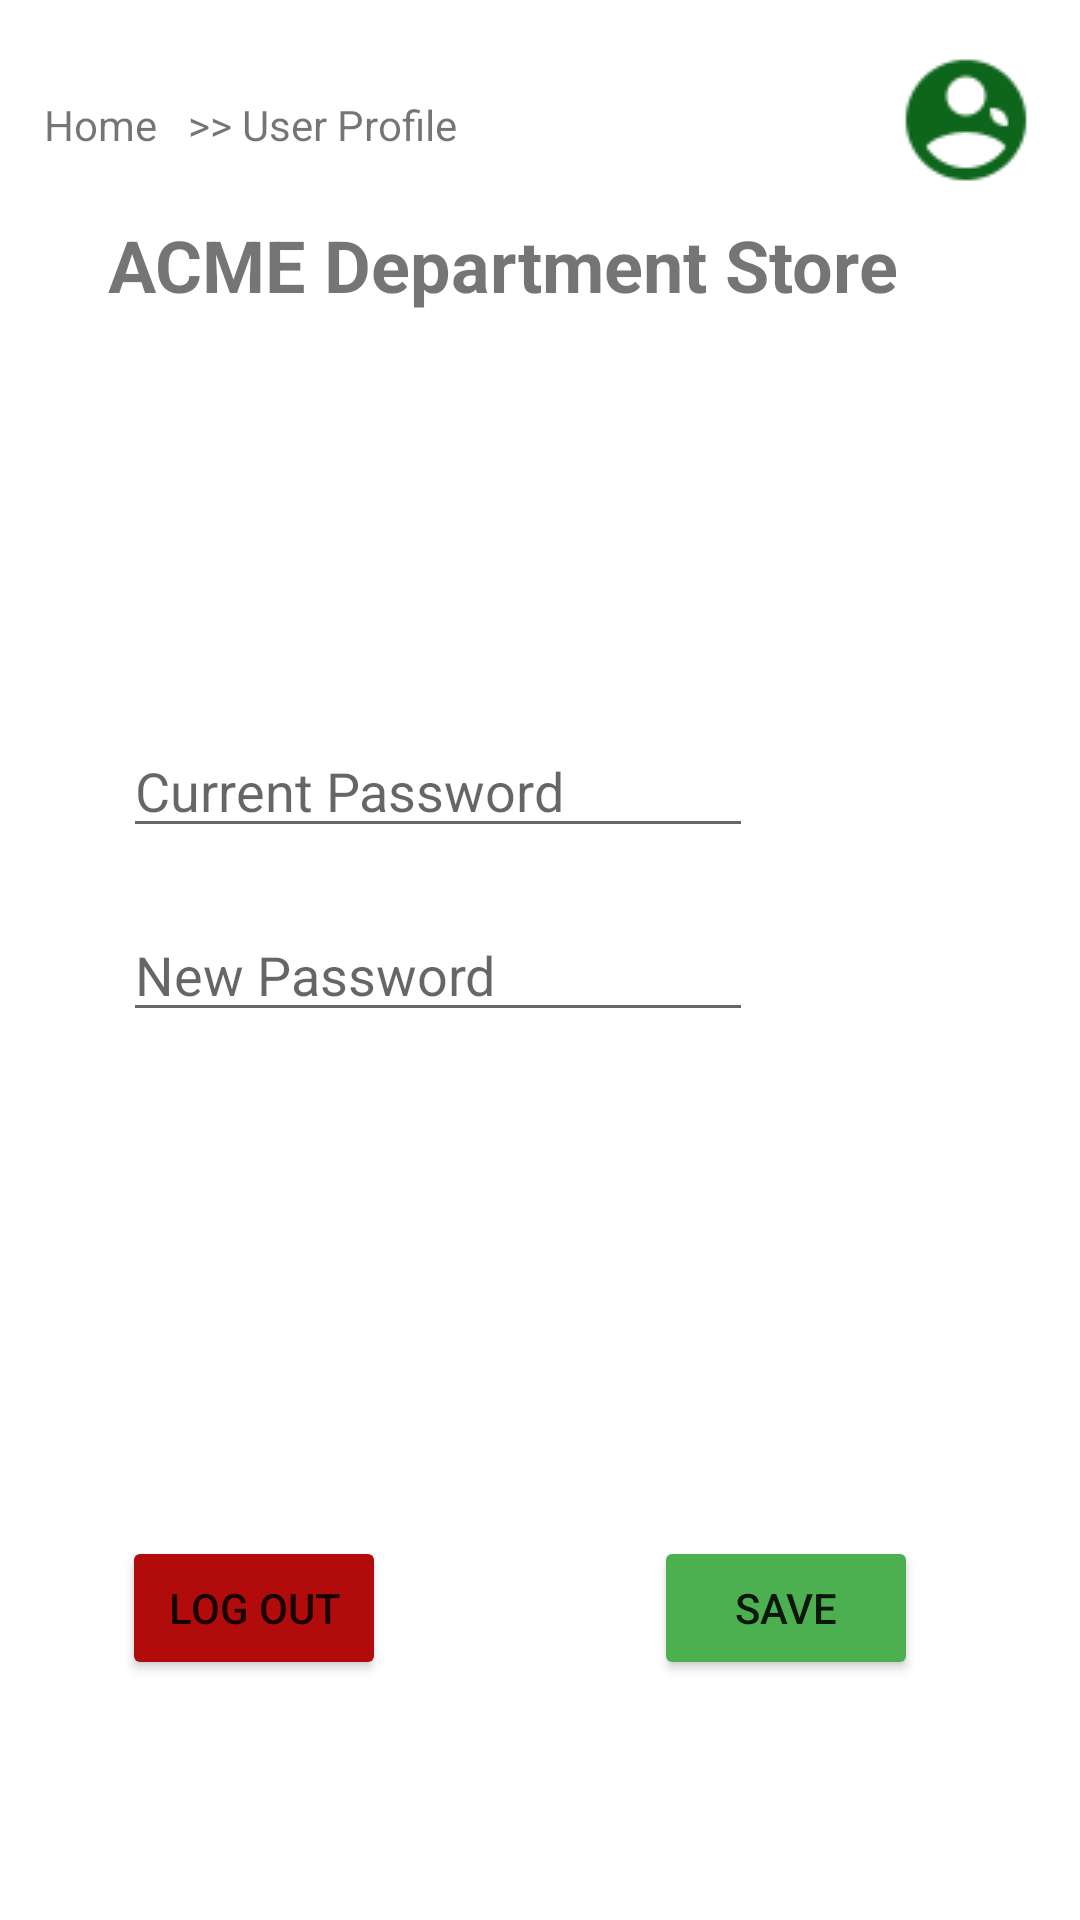

Locate icon controls on the screen. Image size 1080px x 1920px, boxes as (x1, y1, x2, y2).
userprofile: (905, 59, 1027, 181)
